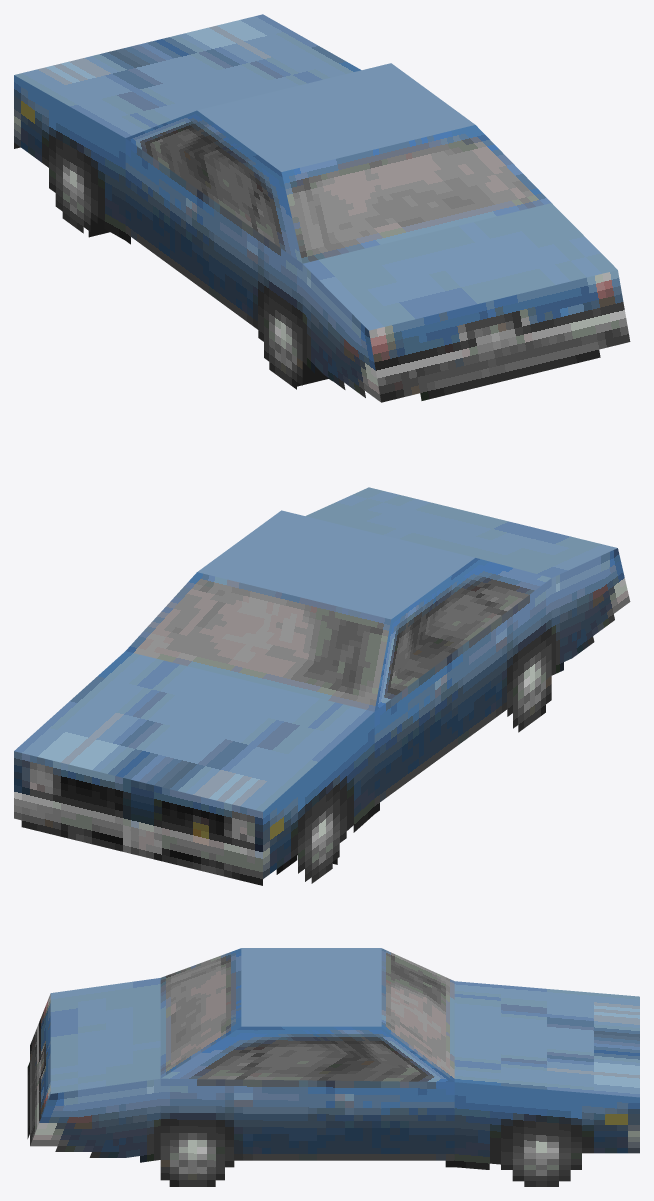
File: car-lemans-plt2.glb
3 renders of one model, top to bottom at view 1: azimuth 30°, elevation 25°; view 2: azimuth 150°, elevation 25°; view 3: azimuth 270°, elevation 25°, orthographic. The views are drawn at different scales.
Visible parts, largest first — view 1: car-lemans-plt2; view 2: car-lemans-plt2; view 3: car-lemans-plt2.
Part boxes in pixels (x1,y1,x2,y2): car-lemans-plt2: (14, 14, 630, 402); car-lemans-plt2: (14, 487, 630, 885); car-lemans-plt2: (27, 948, 639, 1186).
Bounding box in the file's own units: 1.98 × 1.37 × 5.2.
Materials: 16 (16 with a texture image).
